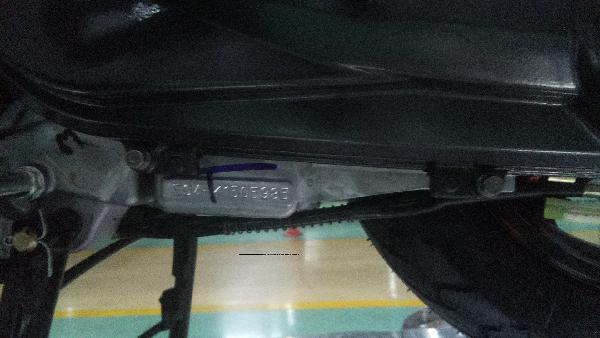box: (171, 182, 289, 202)
